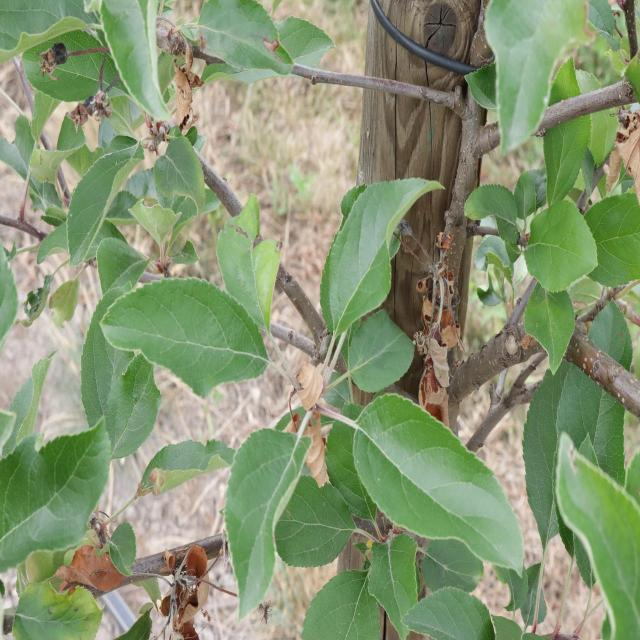-FireBlight-: (59, 554, 217, 640), (406, 243, 474, 423), (292, 375, 341, 494)
